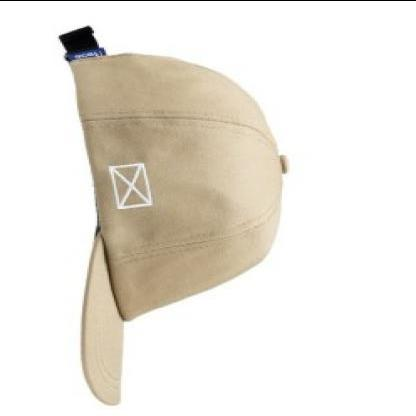cap: (40, 18, 297, 410)
